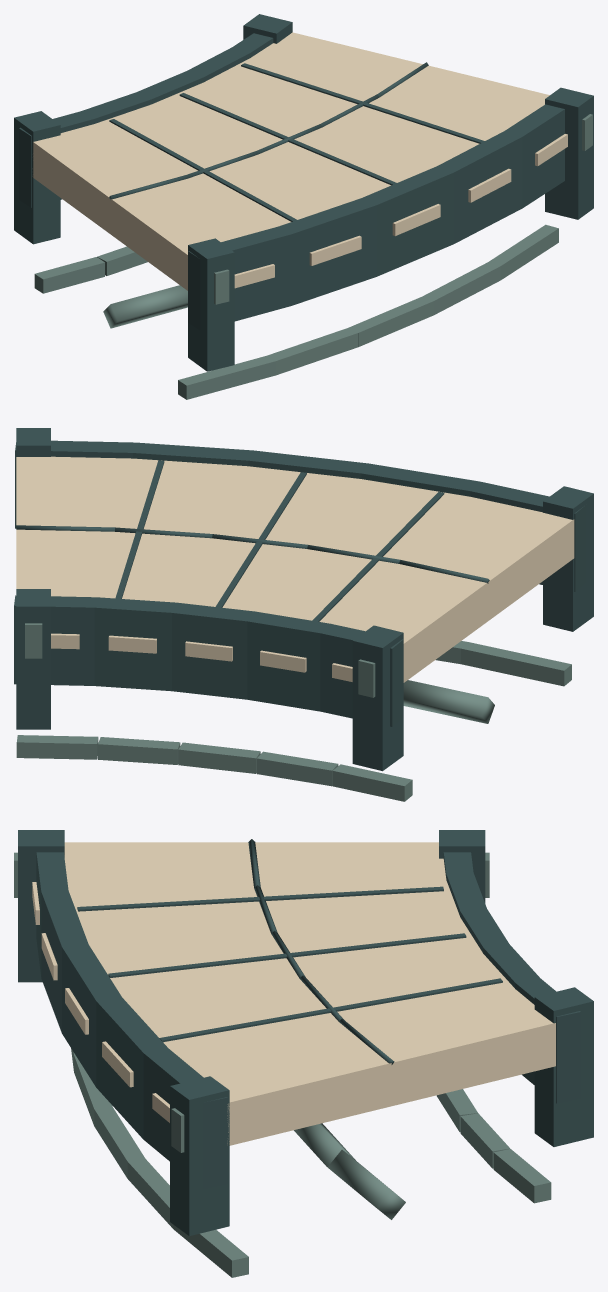
File: Curve_30_lab2.glb
The picture shows the model from 3 angles, top to bottom: view 1: azimuth 30°, elevation 25°; view 2: azimuth 150°, elevation 25°; view 3: azimuth 270°, elevation 25°; orthographic projection. The views are drawn at different scales.
Parts seen in each view (by area): view 1: Curve_30; view 2: Curve_30; view 3: Curve_30.
Boxes of the visible parts, box(x1,y1,x2,y2) form: Curve_30: box(14, 14, 593, 399); Curve_30: box(14, 428, 593, 801); Curve_30: box(14, 830, 593, 1277).
Size of the model in its own units: 4.69 by 1.52 by 4.24.
